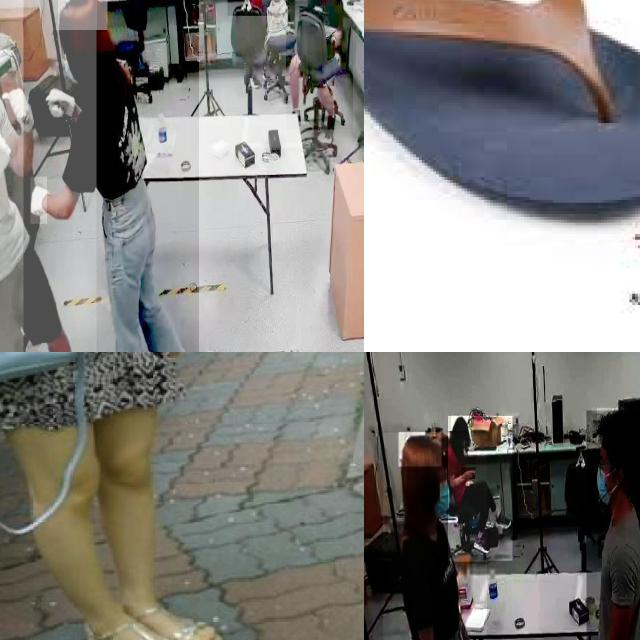Sandals: (364, 0, 640, 265), (82, 556, 227, 640)
face_mask: (430, 478, 456, 535), (588, 465, 614, 516)
hand_glove: (45, 78, 77, 133), (4, 82, 34, 130), (0, 125, 13, 197), (31, 176, 47, 224)
hand_noglove: (462, 467, 476, 480)
head_nohelmet: (58, 0, 108, 31), (398, 432, 442, 467), (597, 408, 640, 442), (451, 415, 469, 432)
person: (23, 0, 199, 352), (0, 0, 97, 352), (382, 432, 487, 640), (586, 410, 640, 640), (448, 416, 513, 562), (286, 0, 353, 130)
shoes: (160, 341, 199, 352)
